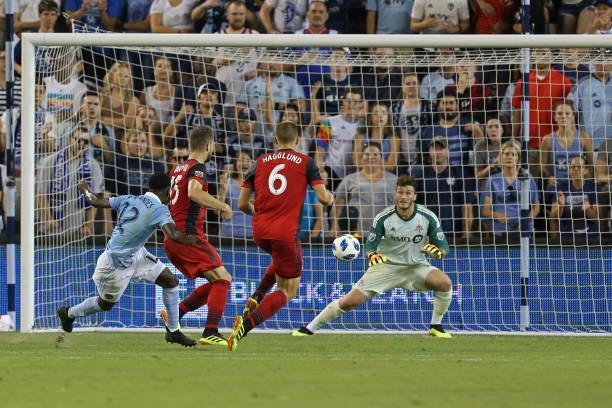Goalkeeper: (293, 177, 452, 338)
Player: (227, 122, 333, 350), (56, 175, 197, 346), (164, 126, 233, 345)
ball: (332, 234, 360, 261)
